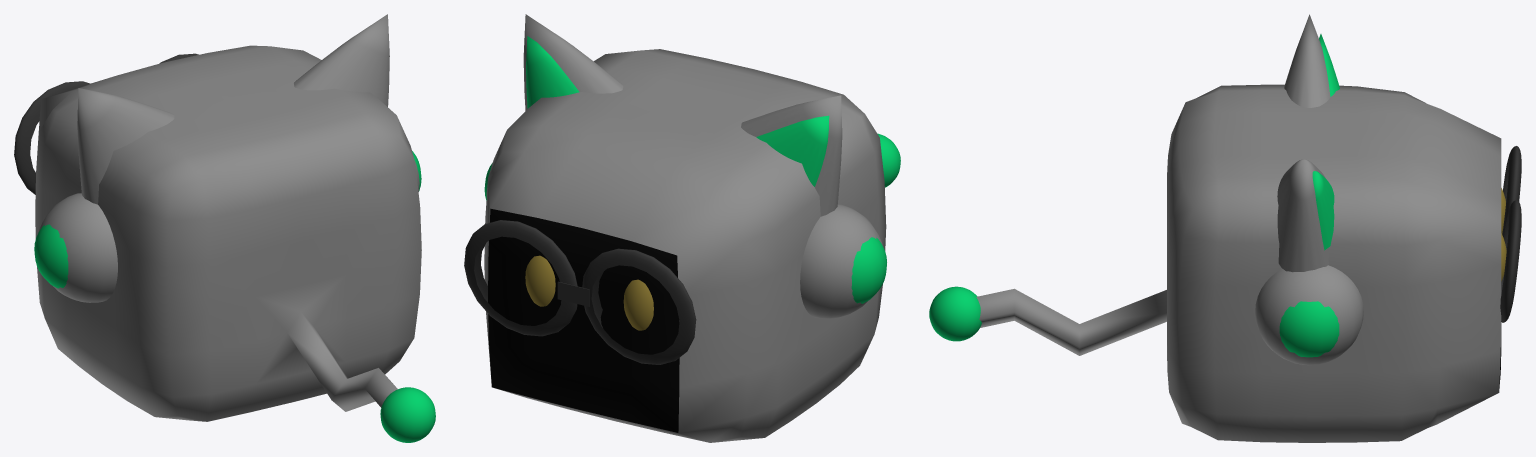
Rendered from Avatar_Eden.dae.
The picture shows the model from 3 angles, left to right: view 1: azimuth 30°, elevation 25°; view 2: azimuth 150°, elevation 25°; view 3: azimuth 270°, elevation 25°; orthographic projection. The views are drawn at different scales.
Visible parts, largest first — view 1: pSphere17; view 2: pSphere17; view 3: pSphere17.
Part boxes in pixels (<box>): pSphere17: <box>14,14,435,442</box>; pSphere17: <box>464,14,900,442</box>; pSphere17: <box>929,14,1521,442</box>.
Bounding box in the file's own units: 1.5 × 1.19 × 2.08.
